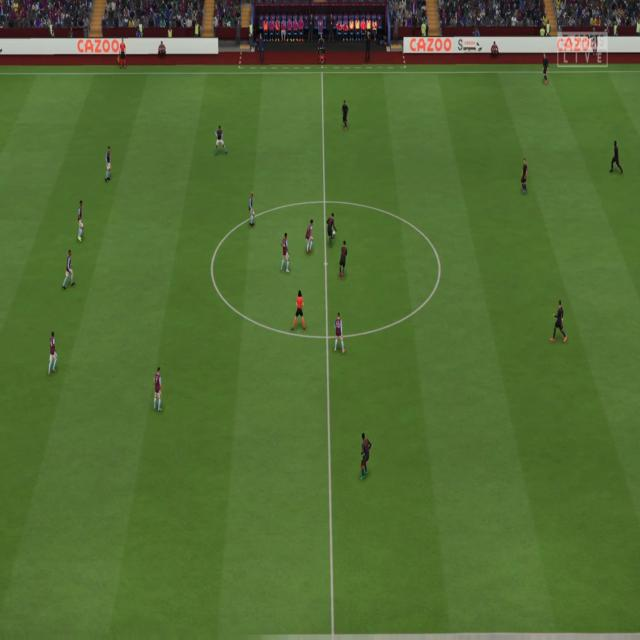Ball: (332, 231, 336, 235)
Referee: (290, 291, 306, 332)
Team-A: (551, 299, 567, 341), (360, 434, 373, 481), (608, 140, 624, 176), (338, 244, 349, 281), (520, 159, 530, 194), (327, 214, 338, 243), (341, 102, 350, 131), (542, 55, 550, 84)
Team-H: (62, 250, 77, 290), (154, 369, 166, 414), (46, 331, 58, 376), (279, 233, 291, 273), (215, 124, 229, 158), (334, 314, 345, 354), (74, 202, 84, 245), (304, 221, 316, 255), (248, 190, 258, 228), (105, 145, 112, 181)
